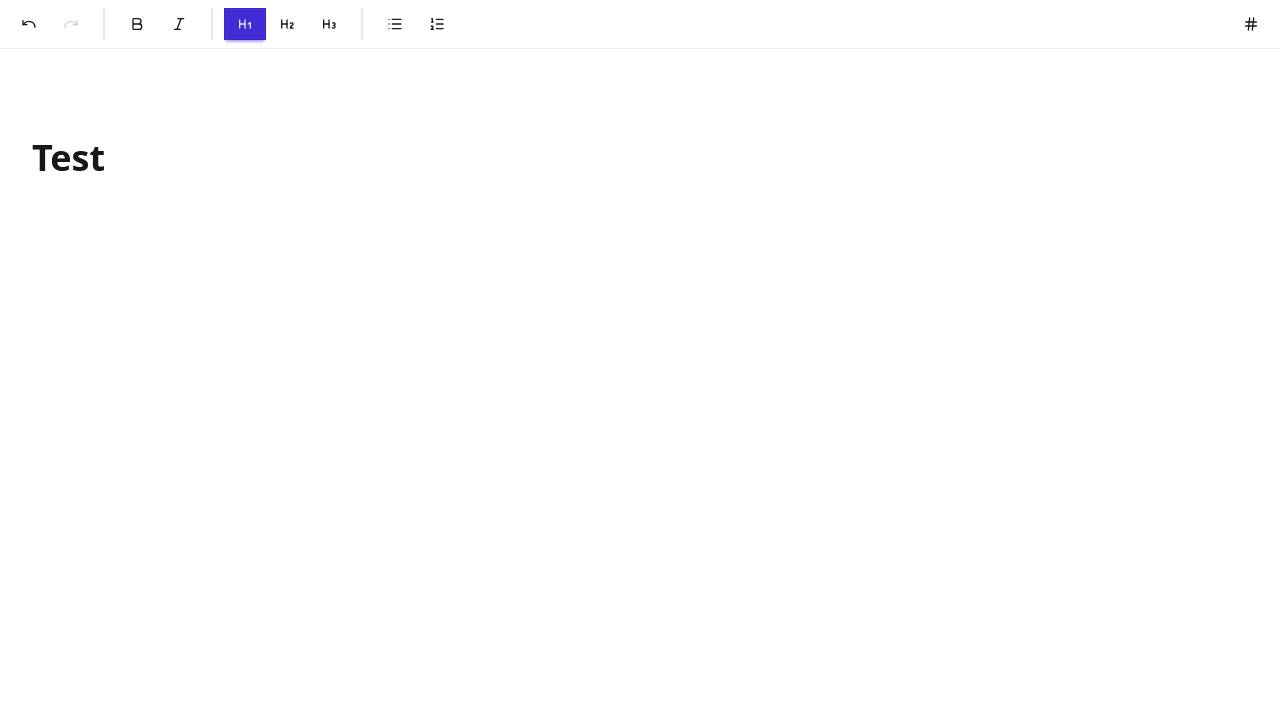
Scenario: EditorComponent - Toolbar Integration › markdown guide opens from markdown mode
Switch to markdown mode
Click the button titled "Switch to Markdown" at (1251, 24), box [1230, 8, 1272, 40]
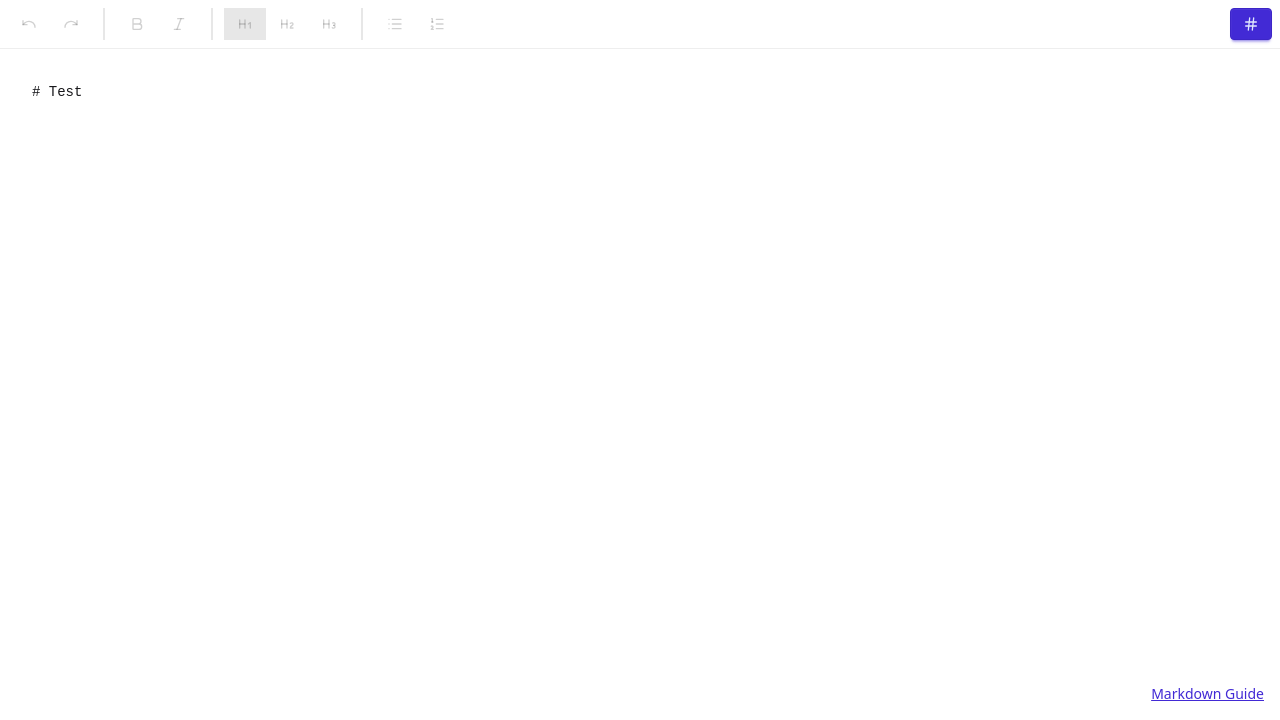
Expected: the button "Markdown Guide" is shown
Click guide link
Click the button "Markdown Guide" at (1208, 694), box [1151, 684, 1264, 704]
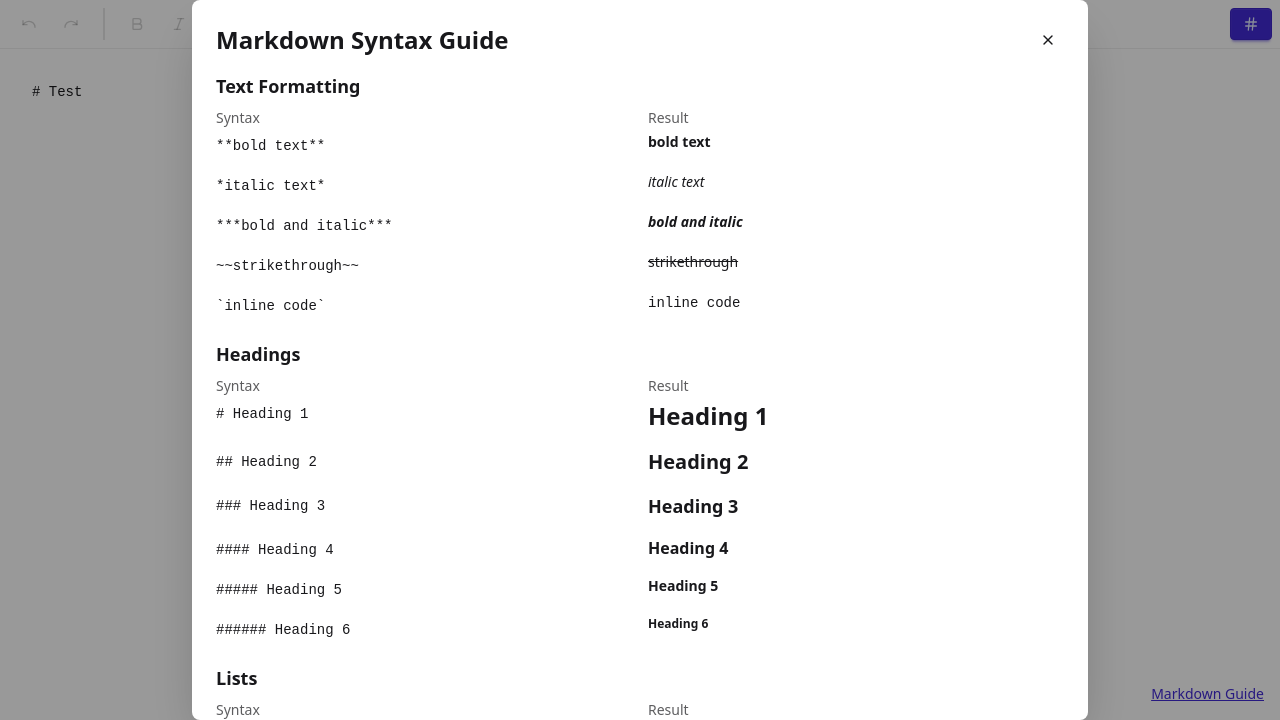
Expected: the heading "Markdown Syntax Guide" is shown, [216, 24, 508, 56]
Expected: the heading "Text Formatting" is shown, [216, 74, 360, 98]
